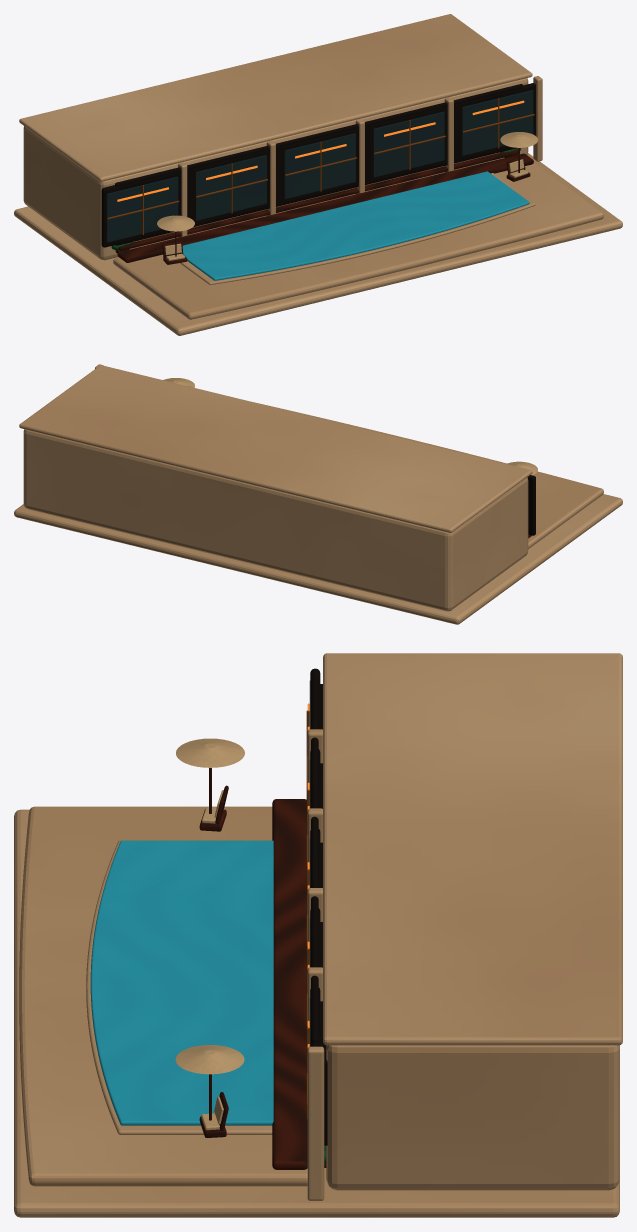
The model's file is hotel-level-detail.glb.
3 views of the same model, one above another, from view 1: azimuth 30°, elevation 25°; view 2: azimuth 150°, elevation 25°; view 3: azimuth 270°, elevation 25° (orthographic). The views are drawn at different scales.
Visible parts, largest first — view 1: ASSET_HOTEL_LEVEL_PaleTravertine, ASSET_HOTEL_LEVEL_DeepInterior, ASSET_HOTEL_LEVEL_ArchitecturalGlass, LevelPoolPoolWater, ASSET_HOTEL_LEVEL_DarkTeak, ASSET_HOTEL_LEVEL_ResortLoungeFabric, ASSET_HOTEL_LEVEL_AgedChampagneBrass, ASSET_HOTEL_LEVEL_WarmEmissive; view 2: ASSET_HOTEL_LEVEL_PaleTravertine, ASSET_HOTEL_LEVEL_DeepInterior, ASSET_HOTEL_LEVEL_ResortLoungeFabric; view 3: ASSET_HOTEL_LEVEL_PaleTravertine, LevelPoolPoolWater, ASSET_HOTEL_LEVEL_DarkTeak, ASSET_HOTEL_LEVEL_DeepInterior, ASSET_HOTEL_LEVEL_ResortLoungeFabric, ASSET_HOTEL_LEVEL_AgedChampagneBrass.
Part boxes in pixels (<box>): ASSET_HOTEL_LEVEL_PaleTravertine: <box>14,14,622,335</box>; ASSET_HOTEL_LEVEL_DeepInterior: <box>101,83,535,247</box>; ASSET_HOTEL_LEVEL_ArchitecturalGlass: <box>107,90,533,242</box>; LevelPoolPoolWater: <box>182,171,529,280</box>; ASSET_HOTEL_LEVEL_DarkTeak: <box>115,148,533,264</box>; ASSET_HOTEL_LEVEL_ResortLoungeFabric: <box>157,132,538,260</box>; ASSET_HOTEL_LEVEL_AgedChampagneBrass: <box>107,98,534,234</box>; ASSET_HOTEL_LEVEL_WarmEmissive: <box>117,100,524,201</box>; ASSET_HOTEL_LEVEL_PaleTravertine: <box>14,364,622,624</box>; ASSET_HOTEL_LEVEL_DeepInterior: <box>527,475,535,535</box>; ASSET_HOTEL_LEVEL_ResortLoungeFabric: <box>163,378,537,475</box>; ASSET_HOTEL_LEVEL_PaleTravertine: <box>14,653,622,1217</box>; LevelPoolPoolWater: <box>90,840,273,1125</box>; ASSET_HOTEL_LEVEL_DarkTeak: <box>199,768,326,1169</box>; ASSET_HOTEL_LEVEL_DeepInterior: <box>310,668,327,1145</box>; ASSET_HOTEL_LEVEL_ResortLoungeFabric: <box>175,738,244,1130</box>; ASSET_HOTEL_LEVEL_AgedChampagneBrass: <box>306,710,309,1119</box>.
Size of the model in its own units: 16.95 by 3.48 by 10.95.
Materials: 10 (10 with a texture image).
